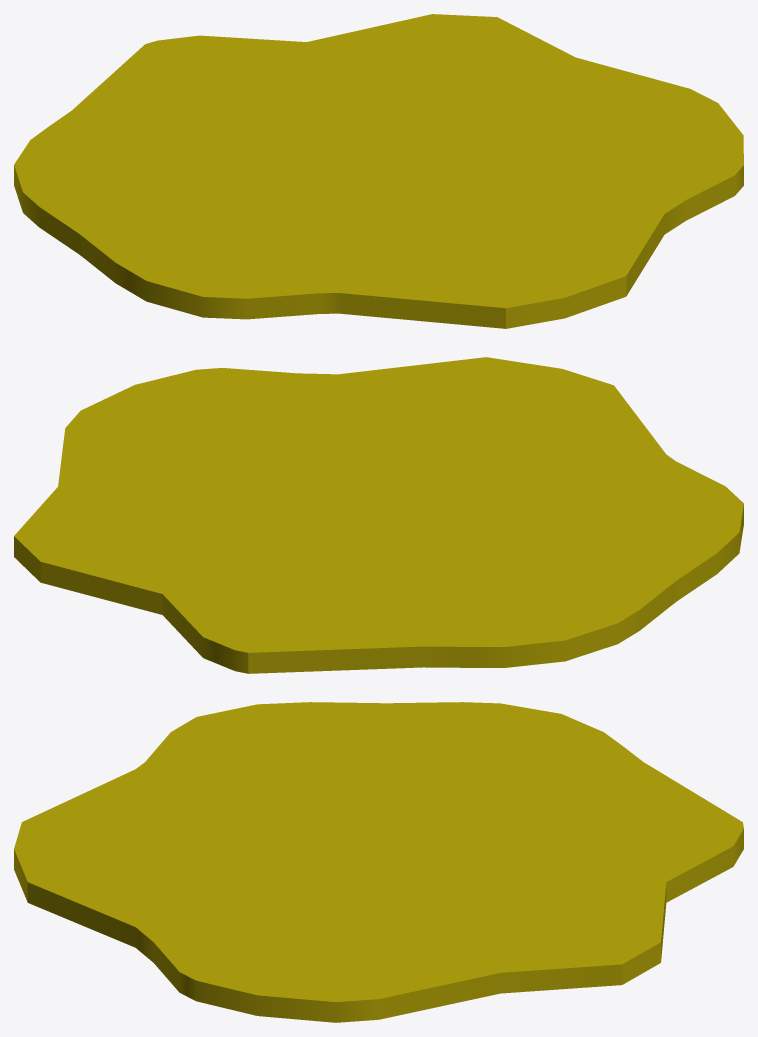
The model's file is omelette_mix.fbx.
The picture shows the model from 3 angles, top to bottom: view 1: azimuth 30°, elevation 25°; view 2: azimuth 150°, elevation 25°; view 3: azimuth 270°, elevation 25°; orthographic projection.
Visible parts, largest first — view 1: uncooked; view 2: uncooked; view 3: uncooked.
Boxes of the visible parts, box(x1,y1,x2,y2) form: uncooked: box(14, 14, 743, 328); uncooked: box(14, 357, 743, 673); uncooked: box(14, 702, 743, 1022).
Bounding box in the file's own units: 24.03 × 0.7716 × 24.71.
